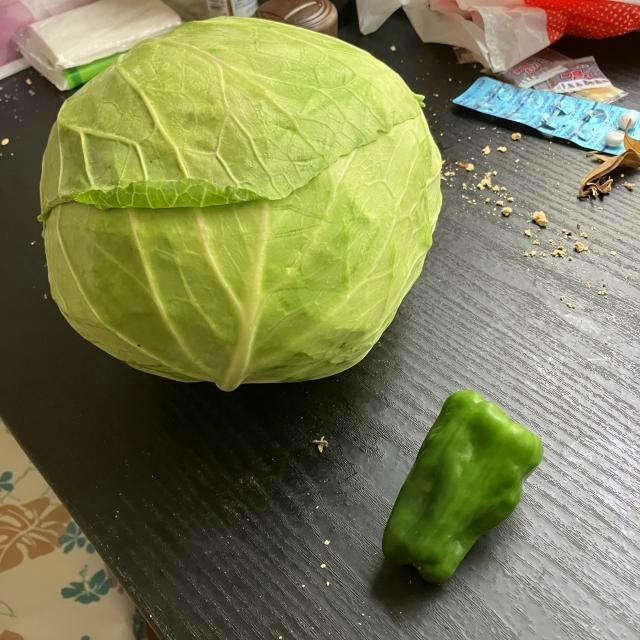cabbage: (35, 16, 444, 397)
